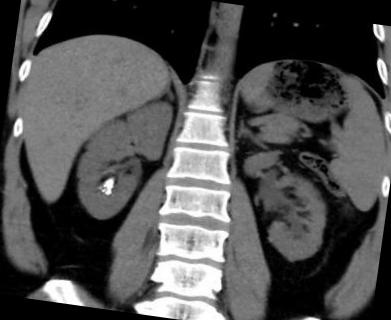Tas_Var: (101, 176, 117, 190), (104, 189, 112, 195), (96, 185, 102, 190), (100, 188, 105, 194), (100, 182, 105, 188)
